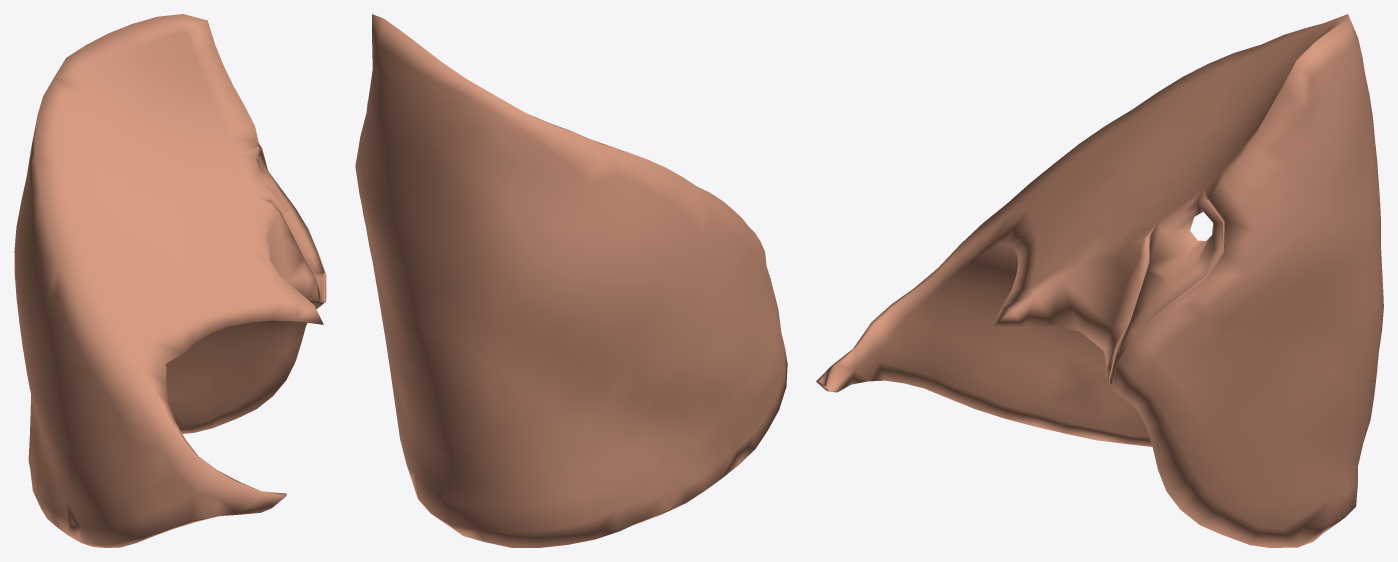
The model's file is inferior-lobe-of-right-lung.glb.
3 renders of one model, left to right at view 1: azimuth 30°, elevation 25°; view 2: azimuth 150°, elevation 25°; view 3: azimuth 270°, elevation 25°, orthographic. The views are drawn at different scales.
Parts seen in each view (by area): view 1: Inferior lobe of right lung; view 2: Inferior lobe of right lung; view 3: Inferior lobe of right lung.
Boxes of the visible parts, left/top/right/bottom form: Inferior lobe of right lung: left=14, top=14, right=326, bottom=547; Inferior lobe of right lung: left=355, top=14, right=787, bottom=547; Inferior lobe of right lung: left=816, top=14, right=1383, bottom=547.
Bounding box in the file's own units: 0.1301 × 0.1837 × 0.1786.
